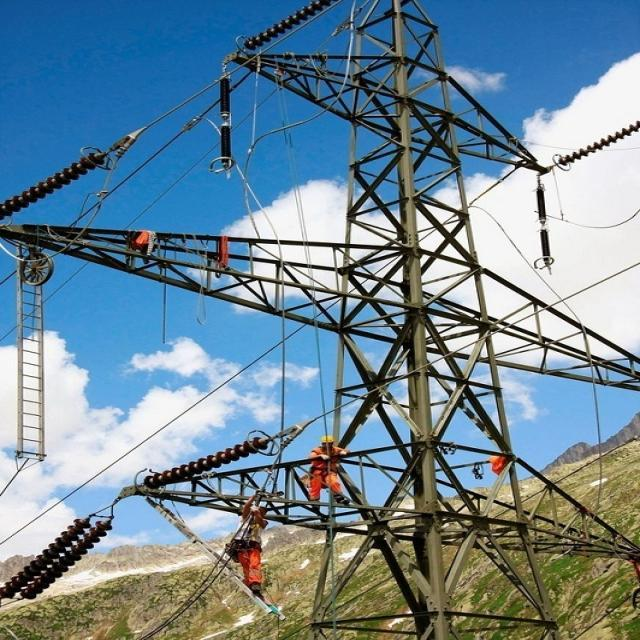non-critical vegetation: (20, 8, 592, 546)
